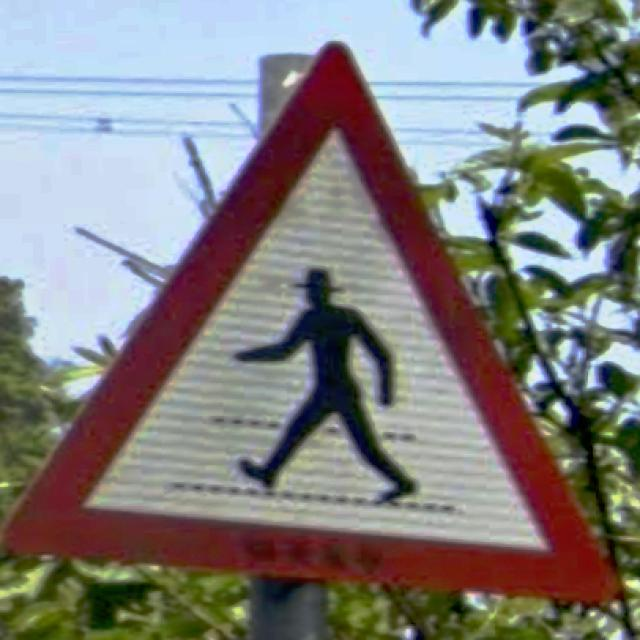pedestriancross: (3, 42, 621, 604)
